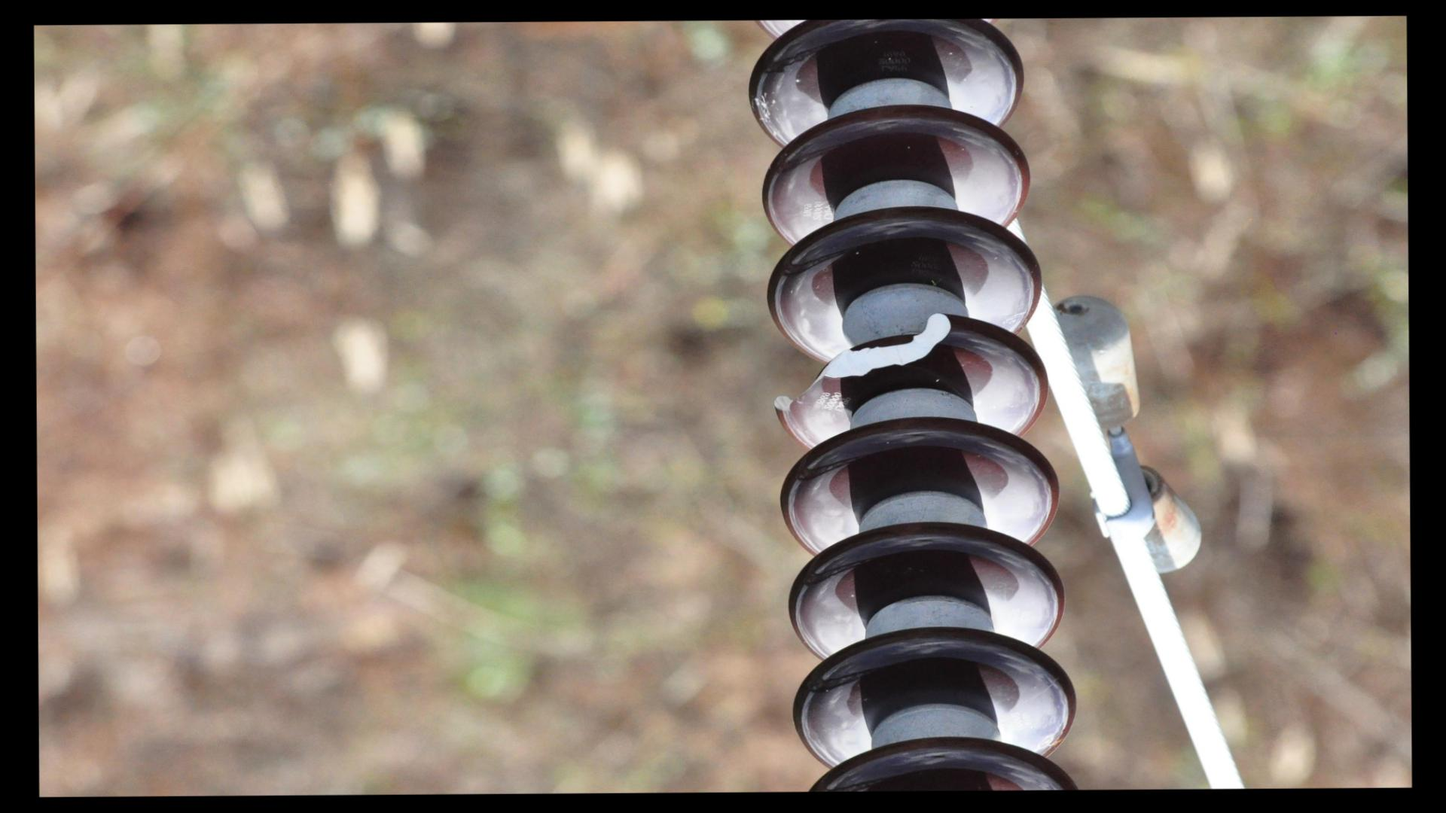damper: (1045, 287, 1207, 584)
